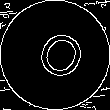O_SW: (24, 22, 86, 88)
